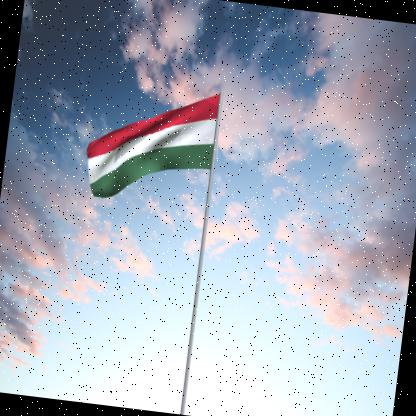hu: (82, 80, 221, 213)
